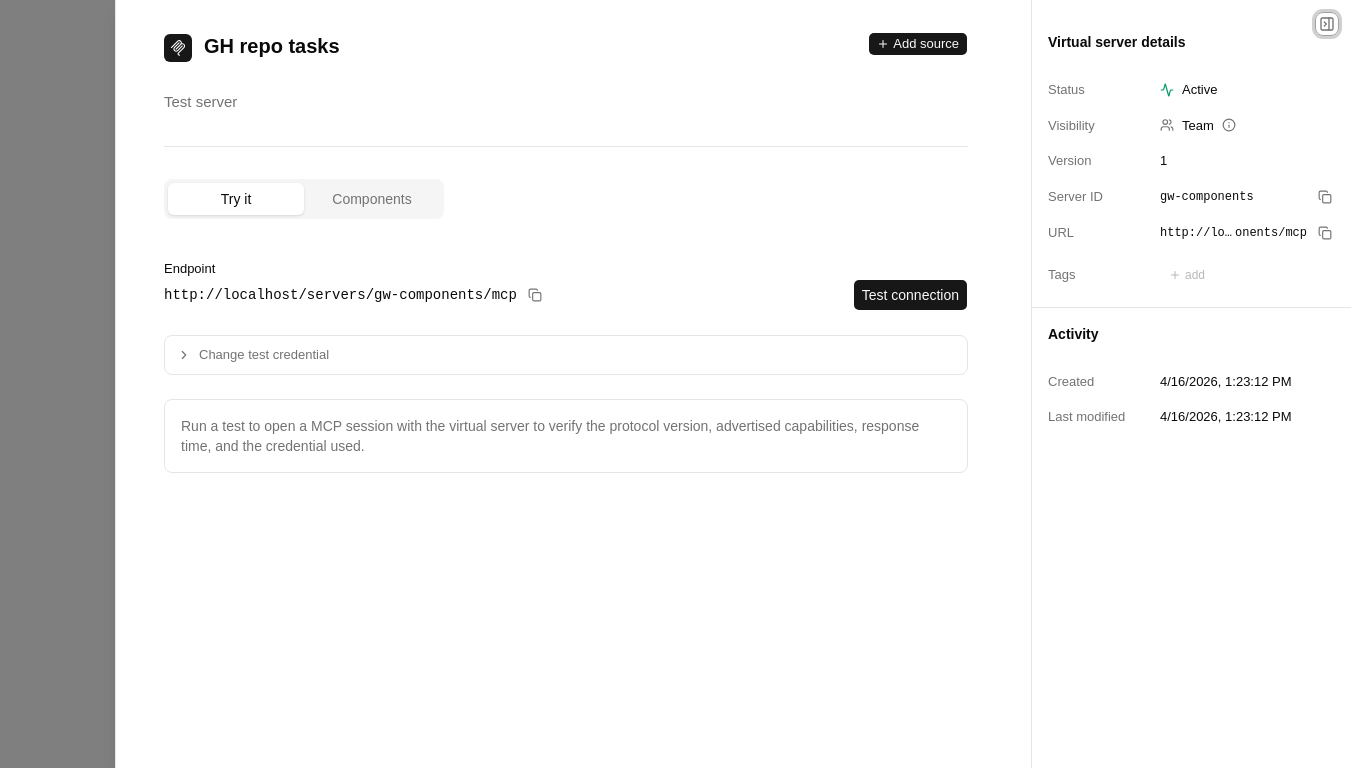
Test: VirtualServerDetailsPanel components list › renders titled and untitled component rows with badges
The width and height of the screenshot is (1366, 768).
Click the tab "Components" at (372, 199), box [304,183,440,215]
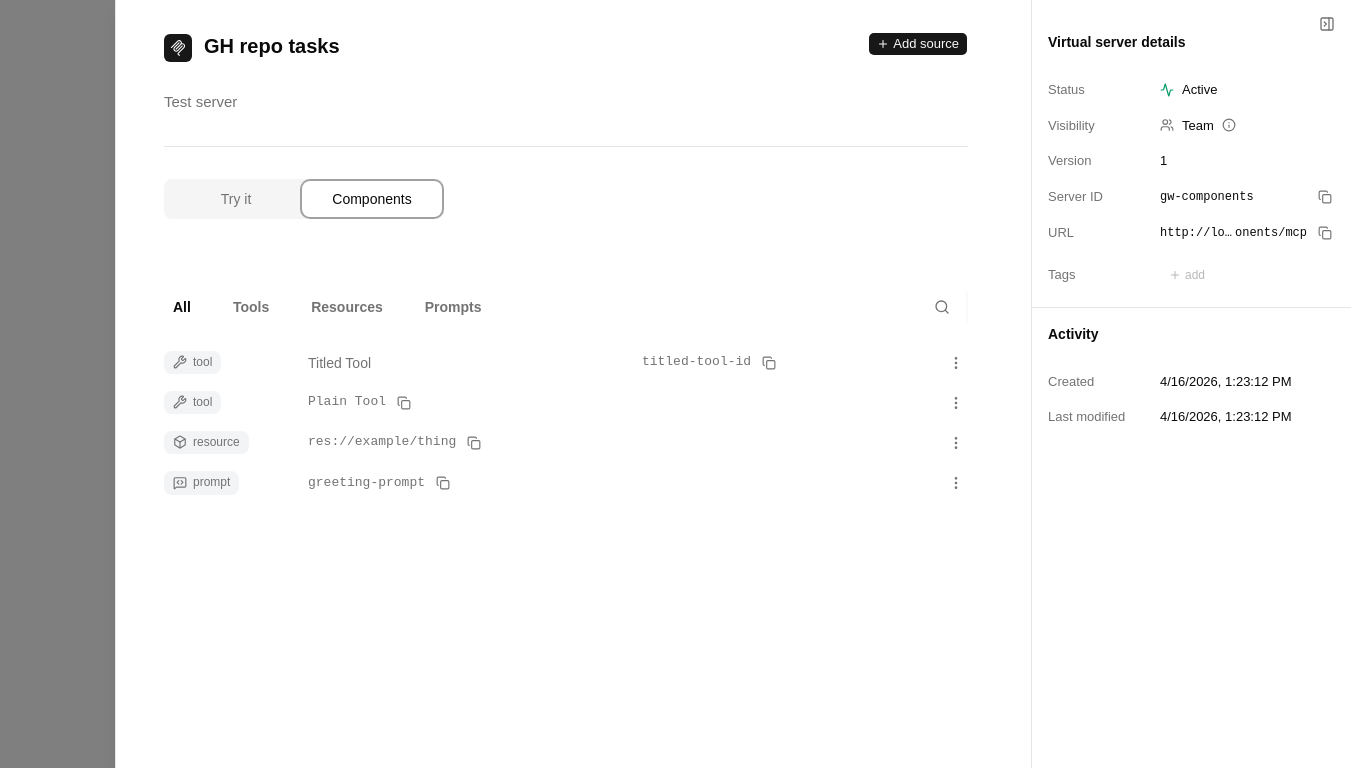
Result: the text "Titled Tool" is shown at [308,354,371,370]
Result: the text "titled-tool-id" is shown at [642,353,751,372]
Result: the text "Plain Tool" is shown at [308,393,386,412]
